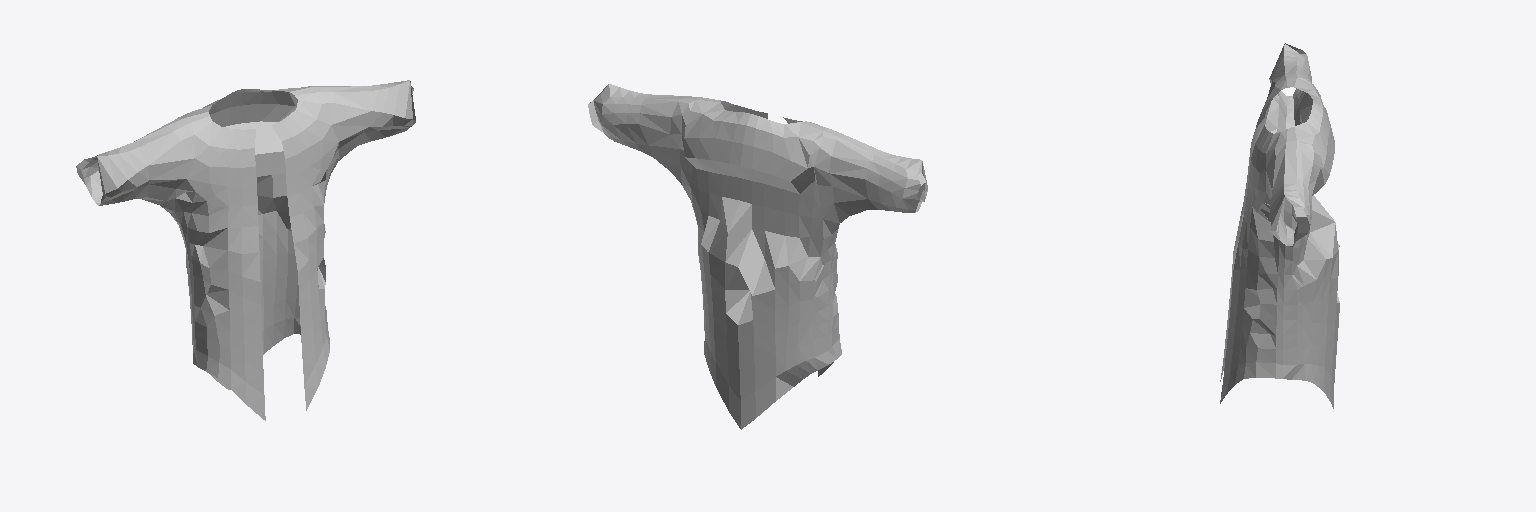
The model's file is shirt_3.obj.
3 renders of one model, left to right at view 1: azimuth 30°, elevation 25°; view 2: azimuth 150°, elevation 25°; view 3: azimuth 270°, elevation 25°, orthographic.
Visible parts, largest first — view 1: tshirt_base_Plane.035_tshirt_base_Plane.001; view 2: tshirt_base_Plane.035_tshirt_base_Plane.001; view 3: tshirt_base_Plane.035_tshirt_base_Plane.001.
Boxes of the visible parts, x1=… form: tshirt_base_Plane.035_tshirt_base_Plane.001: x1=76, y1=80, x2=415, y2=420; tshirt_base_Plane.035_tshirt_base_Plane.001: x1=588, y1=84, x2=927, y2=429; tshirt_base_Plane.035_tshirt_base_Plane.001: x1=1220, y1=43, x2=1339, y2=408.
Bounding box in the file's own units: 1.2 × 1.06 × 0.3757.